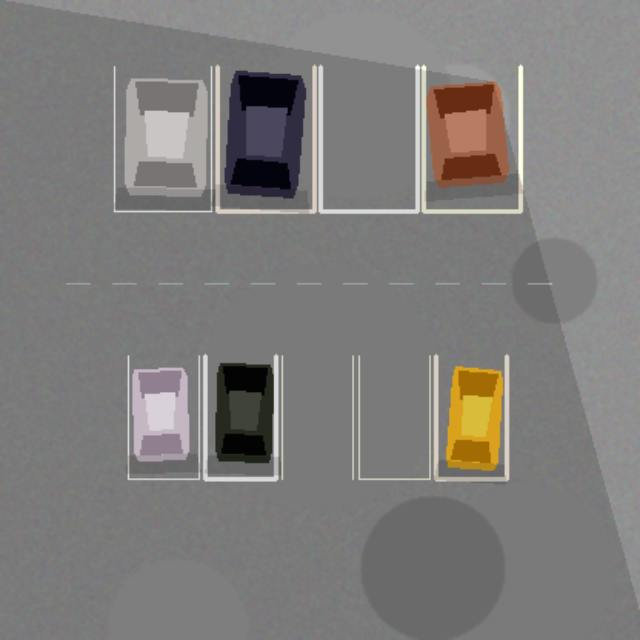space-empty: (320, 66, 417, 211), (358, 355, 429, 478), (282, 355, 352, 478)
space-occupied: (114, 66, 211, 211), (217, 66, 314, 211), (423, 66, 520, 211), (435, 355, 506, 478), (128, 355, 198, 478), (205, 355, 275, 478)
